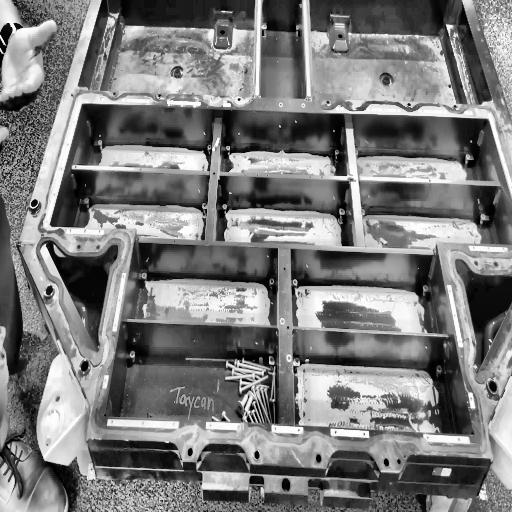b_casing: (17, 0, 512, 475)
